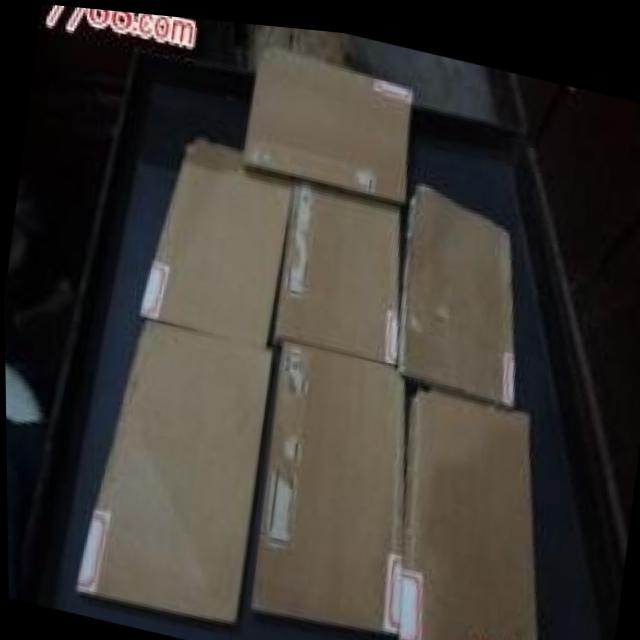box: (75, 317, 273, 618), (249, 344, 404, 629), (398, 382, 535, 640), (140, 134, 293, 343), (245, 45, 415, 198), (398, 178, 512, 397), (270, 177, 401, 360)
